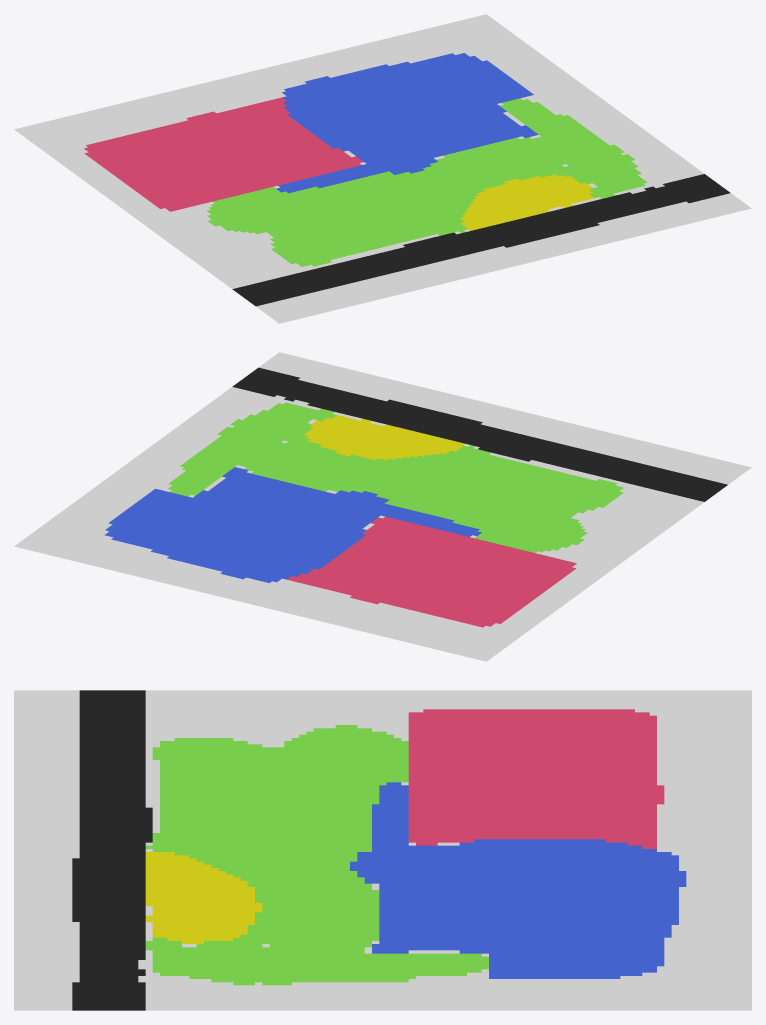
The model's file is foretmap.glb.
The picture shows the model from 3 angles, top to bottom: view 1: azimuth 30°, elevation 25°; view 2: azimuth 150°, elevation 25°; view 3: azimuth 270°, elevation 25°; orthographic projection. The views are drawn at different scales.
Parts seen in each view (by area): view 1: Plan; view 2: Plan; view 3: Plan.
Part boxes in pixels (left/top/right/bottom): Plan: left=14, top=14, right=751, bottom=323; Plan: left=14, top=352, right=751, bottom=661; Plan: left=14, top=690, right=751, bottom=1010.
Bounding box in the file's own units: 268 × 0 × 261.
